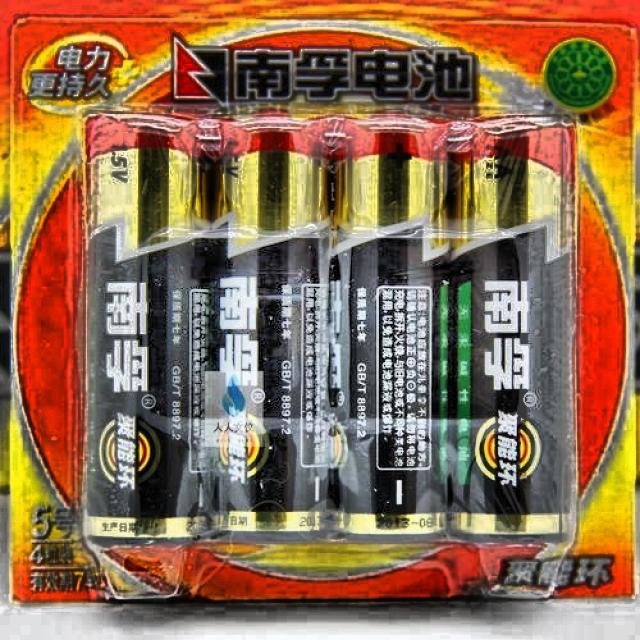Non-Valuable Waste - Batteries: (84, 114, 575, 566)
